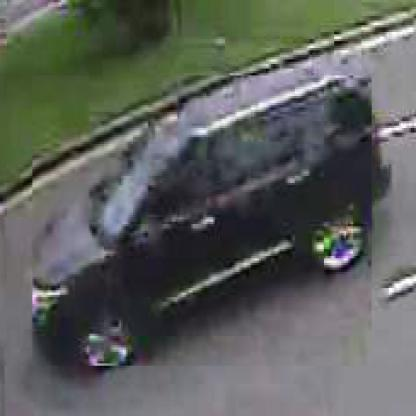car: (32, 76, 373, 369)
